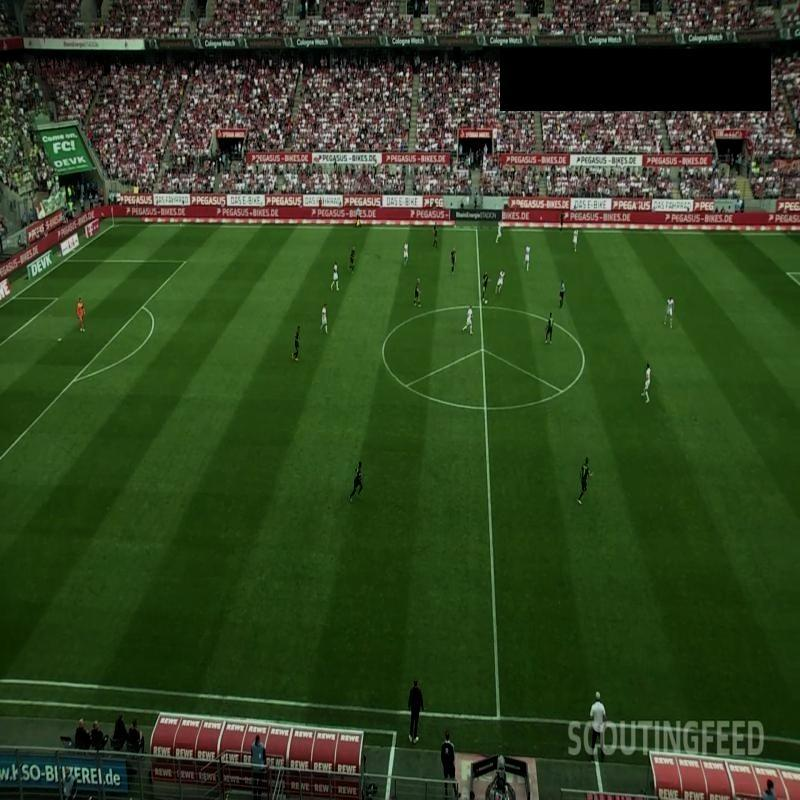1: (108, 219, 122, 233)
10: (134, 301, 148, 315)
11: (68, 373, 82, 387)
13: (469, 222, 484, 236)
14: (474, 300, 489, 314)
15: (478, 400, 493, 416)
16: (491, 710, 507, 726)
2: (57, 255, 72, 268)
3: (6, 290, 20, 304)
7: (50, 290, 64, 304)
9: (176, 253, 194, 269), (782, 264, 796, 282)
c: (576, 352, 590, 366), (378, 341, 389, 358)
